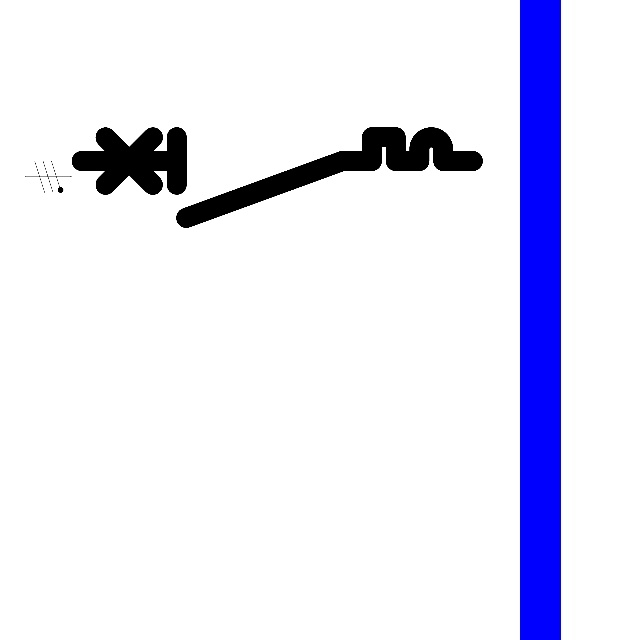interruptor_termomagnetico: (71, 127, 482, 227)
